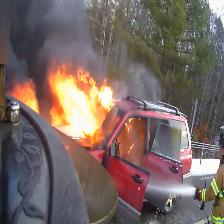fire: (9, 62, 126, 144), (111, 114, 163, 189)
smoke: (8, 0, 150, 70), (106, 50, 172, 132)
